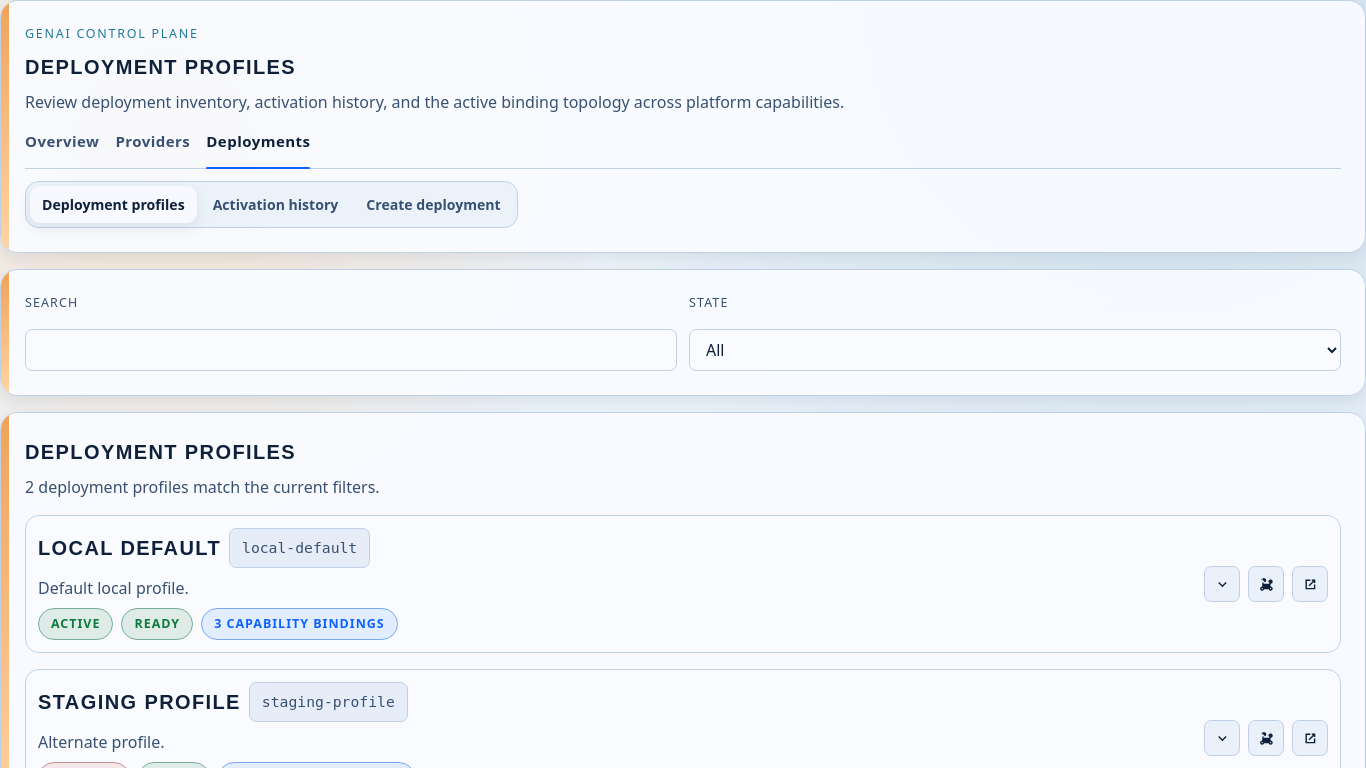
Test case: PlatformDeploymentsPage › switches between deployment page views
Step 1. Click the button "Activation history" → (275, 205), box [201,186,350,223]
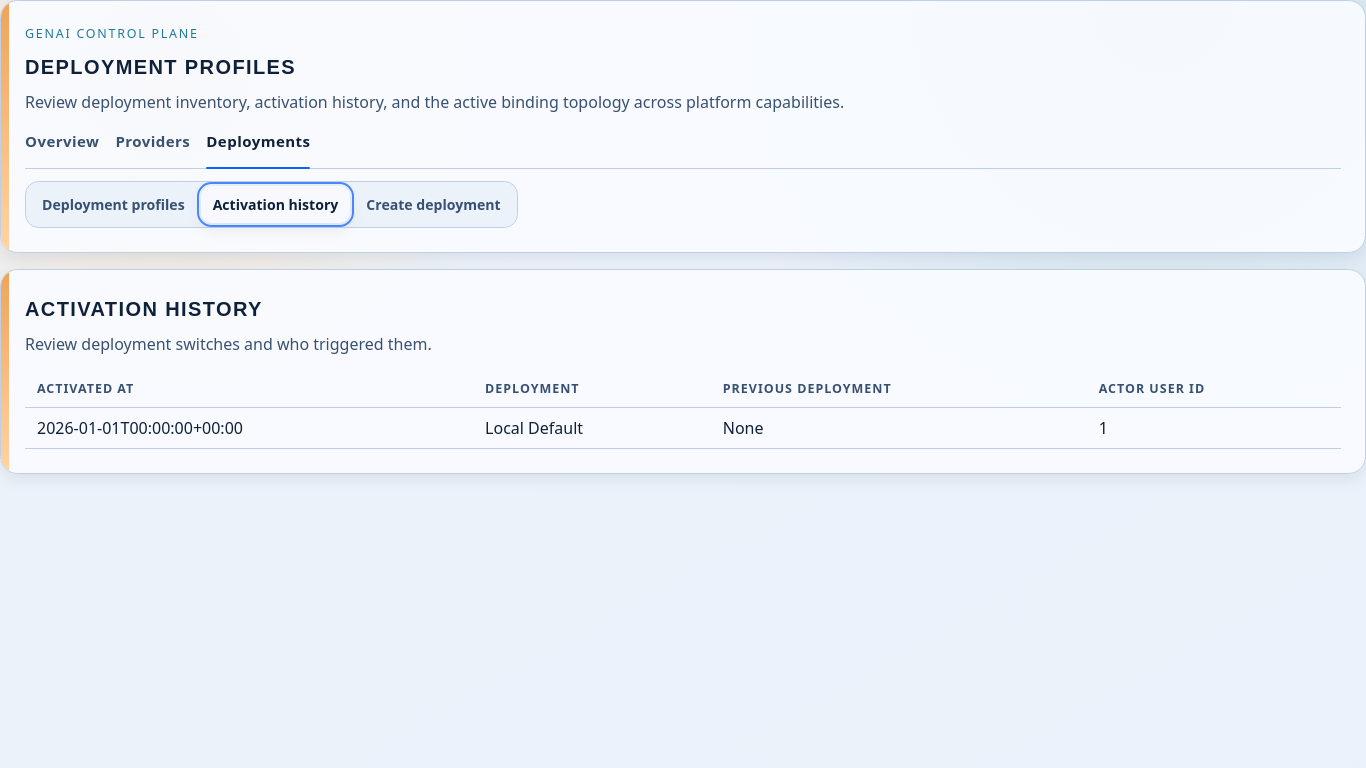
Now the heading "Activation history" is shown, box [25,298,263,320]
Now the text "2026-01-01T00:00:00+00:00" is shown, box [25,408,473,449]
Now the text labelled "Search" is gone
Step 2. Click the button "Create deployment" → (434, 205), box [354,186,513,223]
(page scrolled)
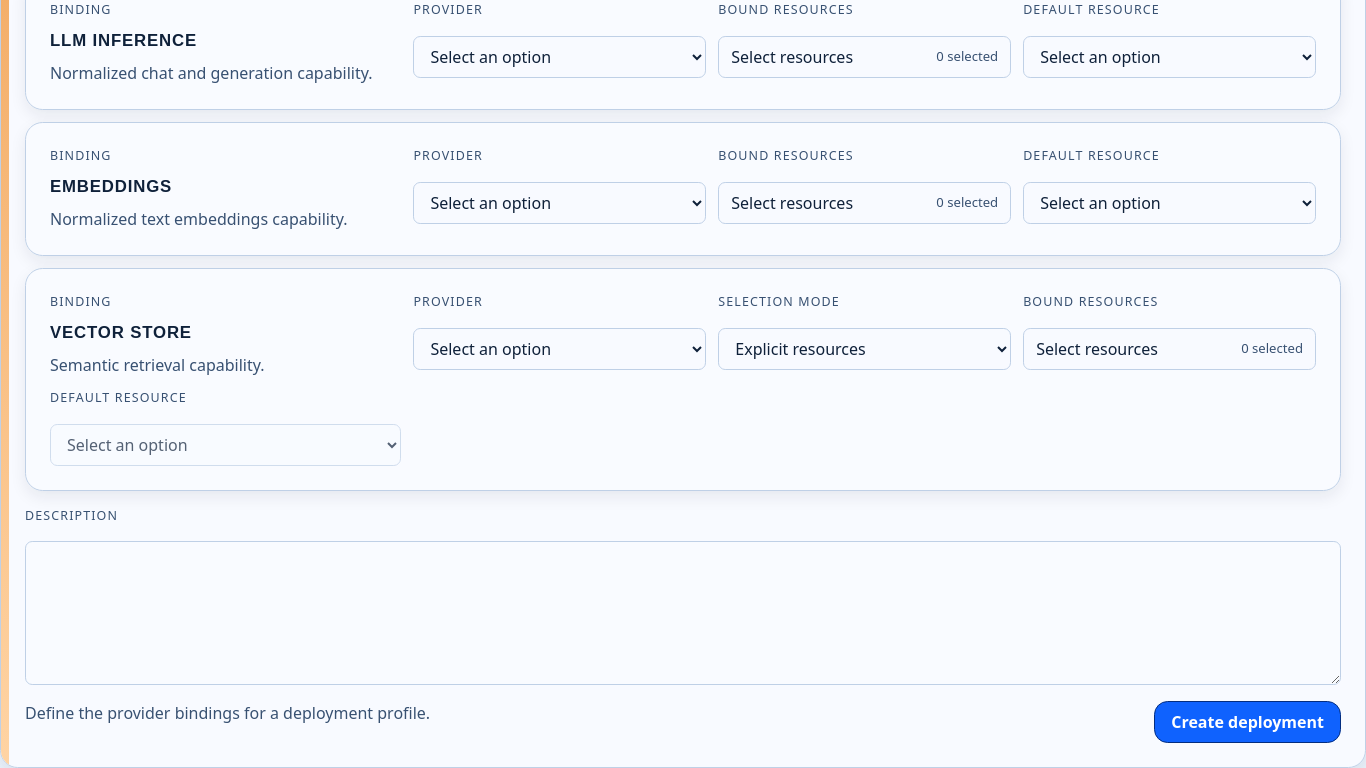
Now the text "Define the provider bindings for a deployment profile." is shown, box [25,702,430,726]
Now the button "Create deployment" is shown, box [1154,702,1341,744]
Now the text "2026-01-01T00:00:00+00:00" is gone
